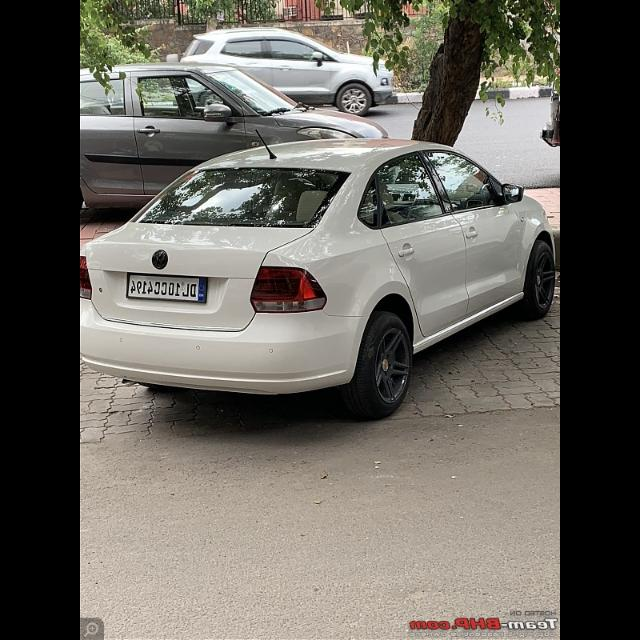vehicles: (88, 142, 560, 422), (188, 28, 394, 110)
